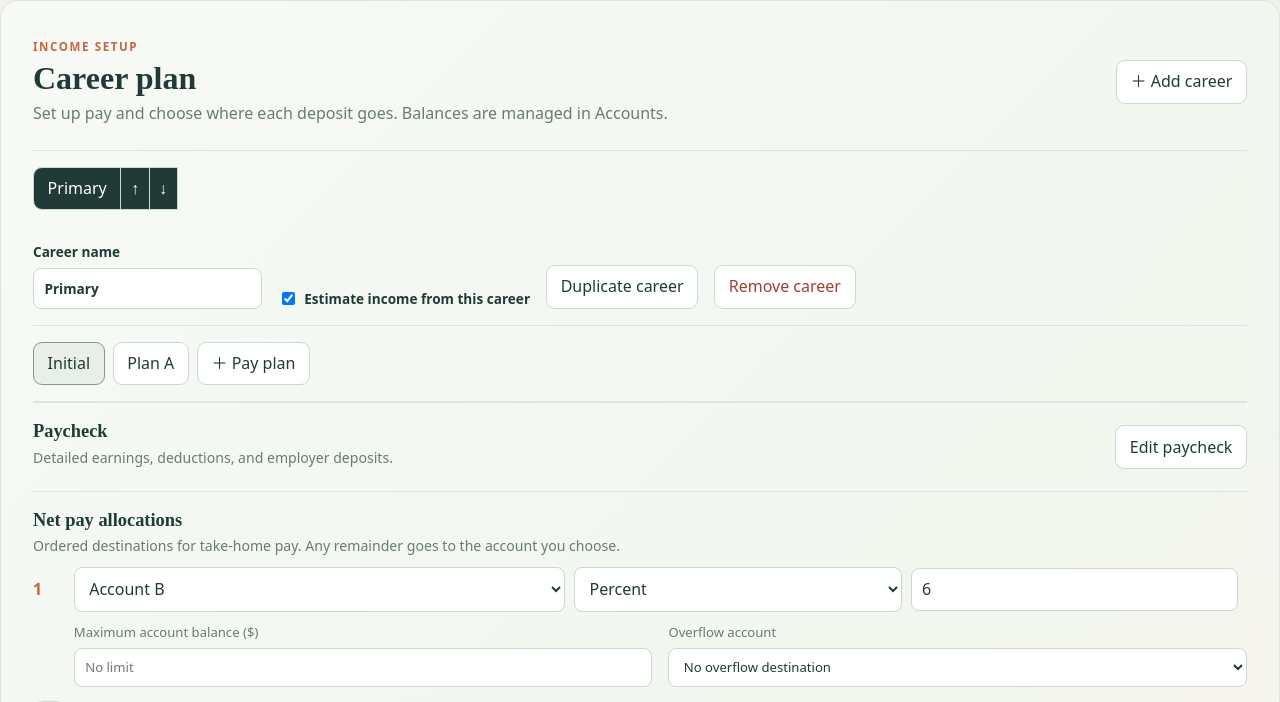
it: AccountCareerPlanEditor › duplicates a career with deep-cloned source lines, pay plans, deposit plans, and paychecks
This screenshot has width=1280, height=702.
Click the button "Duplicate career" at (622, 287), box [546, 265, 698, 309]
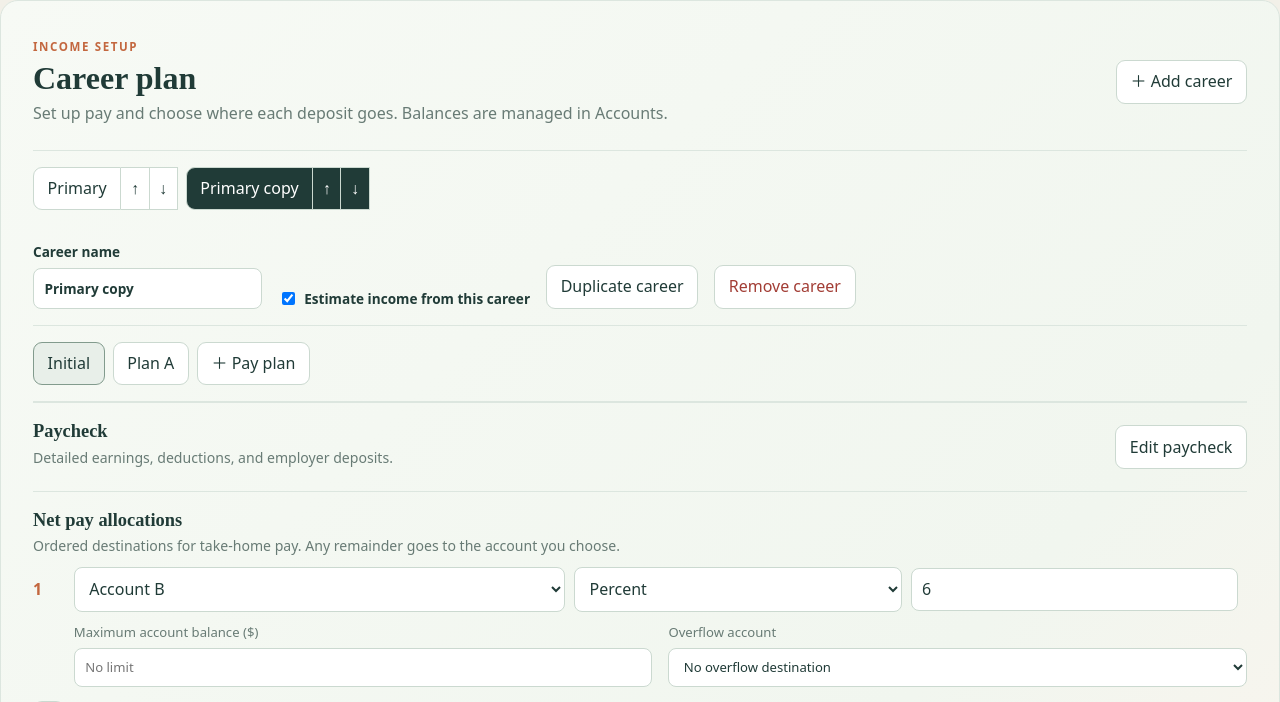
Expected: the button "Primary copy" is shown, [186, 167, 313, 210]
